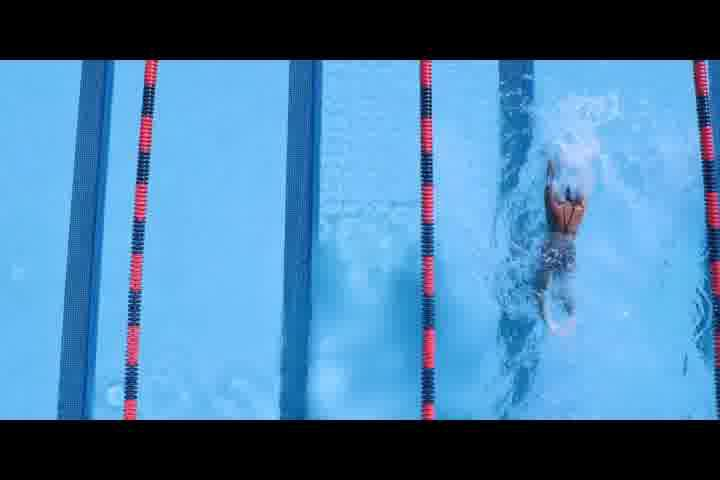human: (520, 147, 609, 336)
